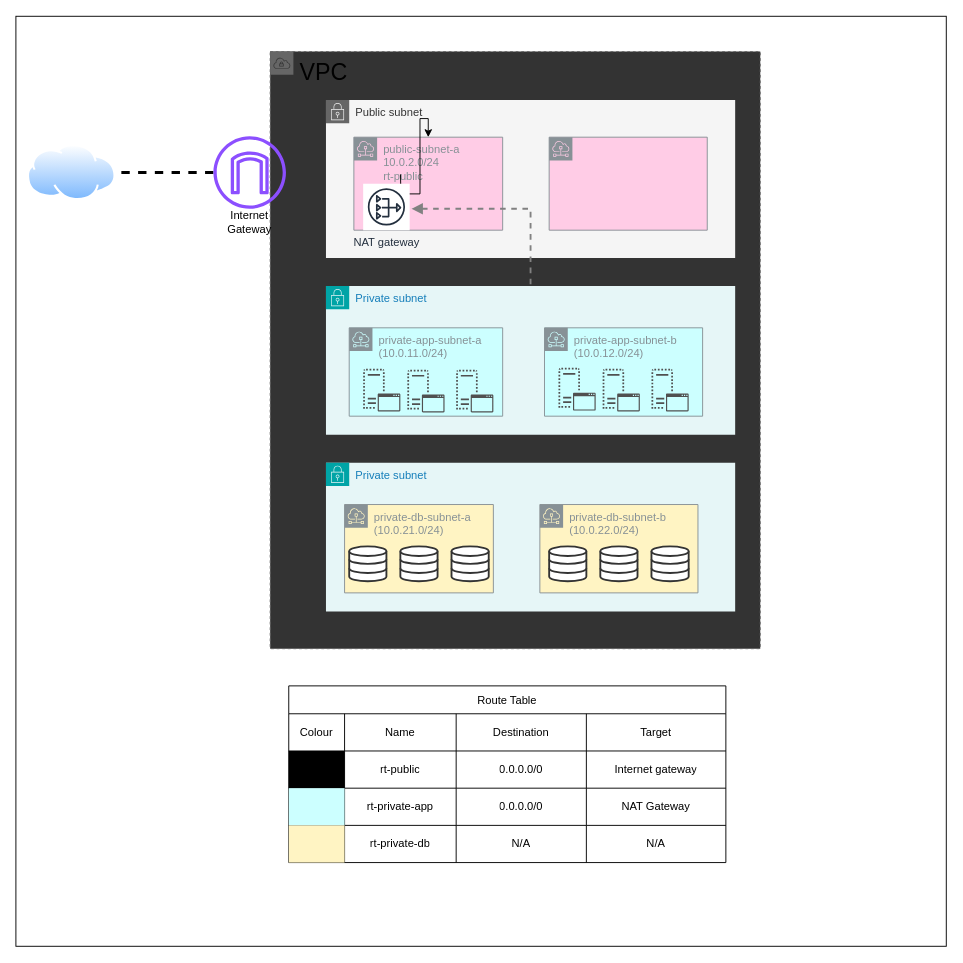
Image size: 963x963. Some labels were removed from this diagram. The shapes that lost their labels are listed below. From the top down, each one's centre as x and y in pixels, then its label:
(71,172): Internet
(627,183): public-subnet-b 10.0.1.0/24 rt-public
